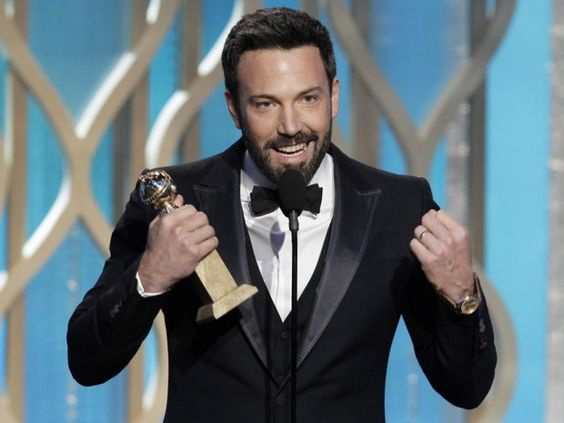hand: (146, 194, 212, 267)
